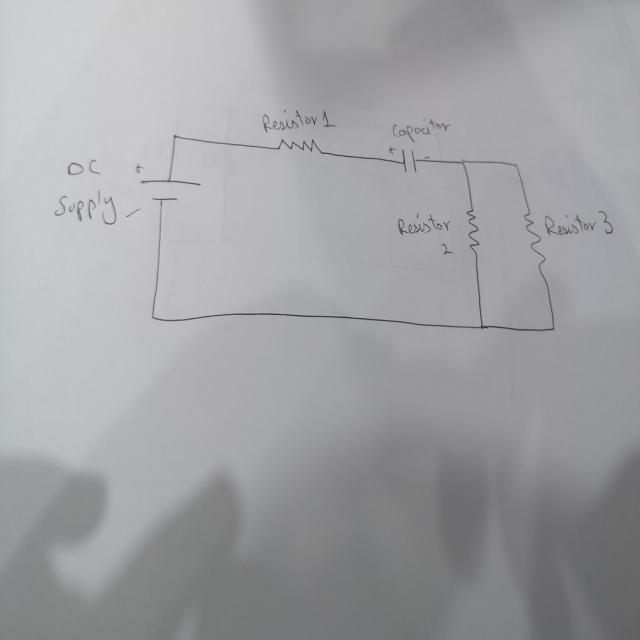capacitor: (387, 143, 432, 176)
junction: (548, 317, 558, 336), (476, 318, 486, 334), (511, 158, 520, 174), (458, 155, 467, 170), (149, 309, 156, 323), (171, 130, 178, 143)
resistor: (520, 206, 546, 276), (274, 133, 324, 159), (465, 204, 480, 256)
source: (139, 176, 203, 205)
text: (50, 185, 120, 227), (542, 209, 614, 237), (261, 108, 329, 133), (397, 212, 451, 234), (390, 120, 449, 138), (65, 154, 103, 178), (441, 241, 452, 259)
